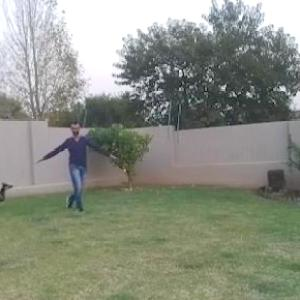land: (46, 114, 125, 208)
